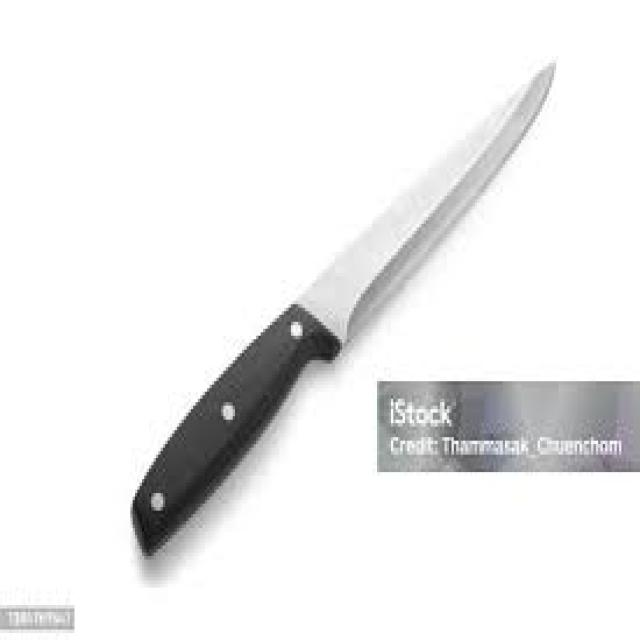Knife: (128, 56, 556, 556)
